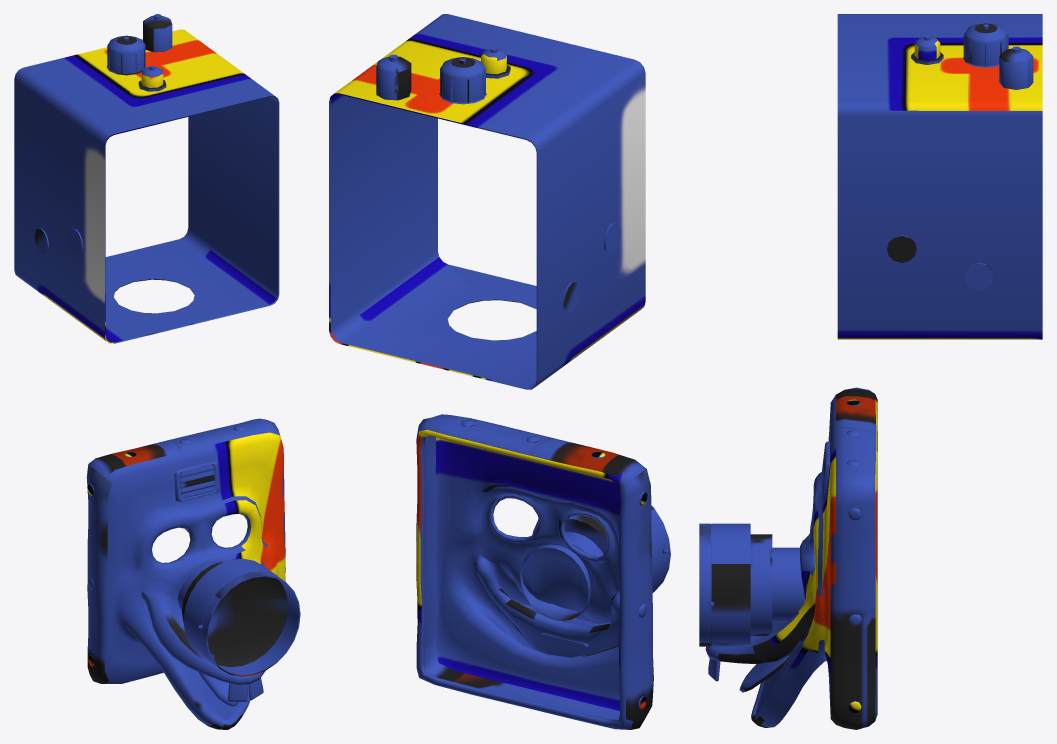
Rendered from PizzaSPP.fbx.
3 views of the same model, side by side, from view 1: azimuth 30°, elevation 25°; view 2: azimuth 150°, elevation 25°; view 3: azimuth 270°, elevation 25° (orthographic). The views are drawn at different scales.
Parts seen in each view (by area): view 1: Default.002; view 2: Default.002; view 3: Default.002.
Boxes of the visible parts, x1=… form: Default.002: x1=14, y1=14, x2=300, y2=729; Default.002: x1=329, y1=14, x2=670, y2=729; Default.002: x1=699, y1=14, x2=1042, y2=729.
Size of the model in its own units: 28.28 by 88.84 by 39.36.
1 material, 1 textured.
